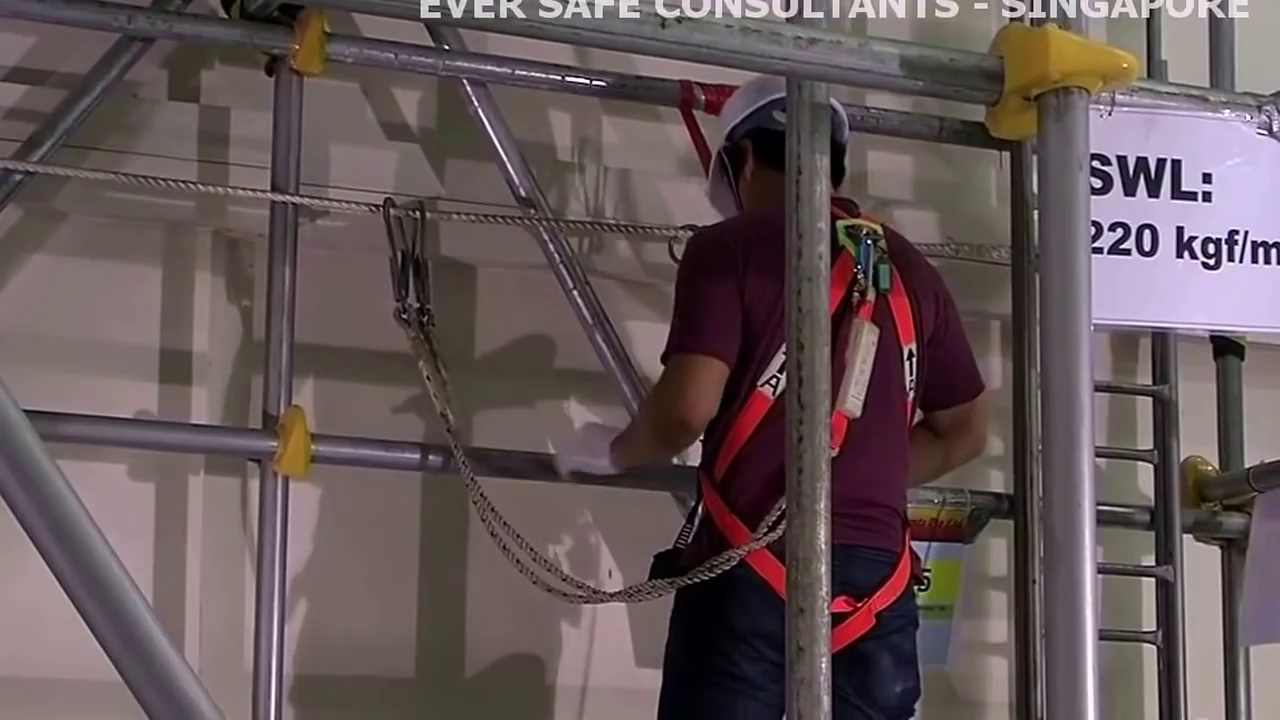harness: (748, 219, 909, 632)
helmet: (715, 85, 848, 133)
hook: (373, 192, 437, 315)
leash: (441, 411, 678, 607)
